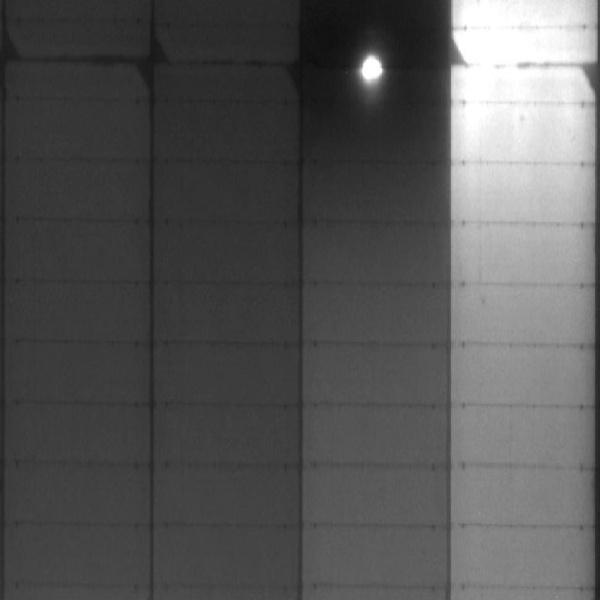hot_spot: (468, 37, 514, 64), (469, 73, 498, 96), (361, 57, 383, 82)
